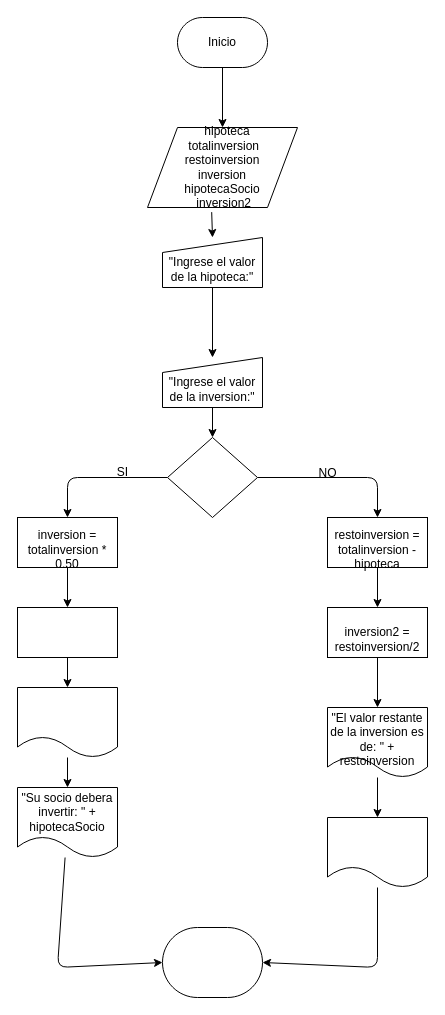
Some shapes in this 445 by 1015 pixel diagram are drawn without their labels. Here are the shapes that lost their labels. From the top down, the centre of each, then its label:
[212,477]: hipoteca < 1000000
[67,632]: hipotecaSocio = hipoteca * 0.50
[67,722]: "El valor de la inversion es: " + inversion
[377,852]: (Entre su socio y usted, deben pagar: " + inversion2 + " cada uno"
[212,962]: Fin
